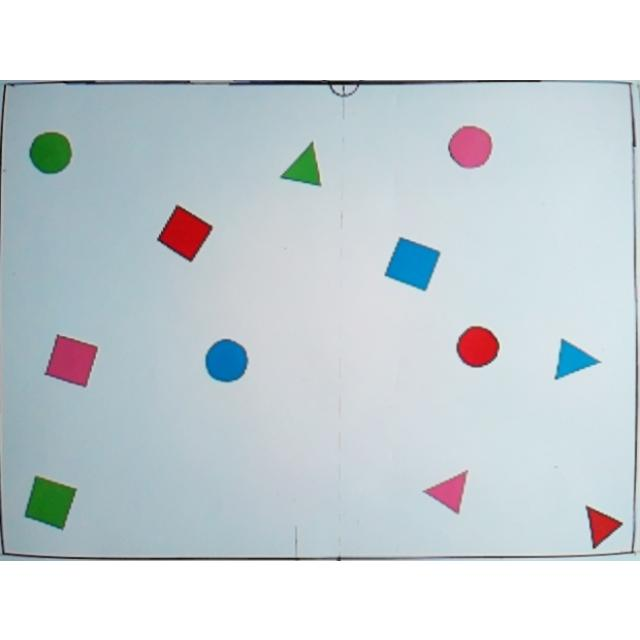blueCircle: (204, 333, 248, 382)
blueSquare: (383, 235, 439, 291)
blueTriangle: (550, 333, 602, 383)
greenCircle: (27, 129, 74, 175)
greenSquare: (21, 472, 79, 532)
greenTriangle: (278, 139, 328, 189)
pinkCircle: (446, 122, 494, 168)
pinkSquare: (43, 332, 99, 388)
pinkTriangle: (422, 468, 470, 514)
redCircle: (454, 322, 502, 368)
redSquare: (154, 202, 214, 264)
redTriangle: (582, 502, 626, 550)
